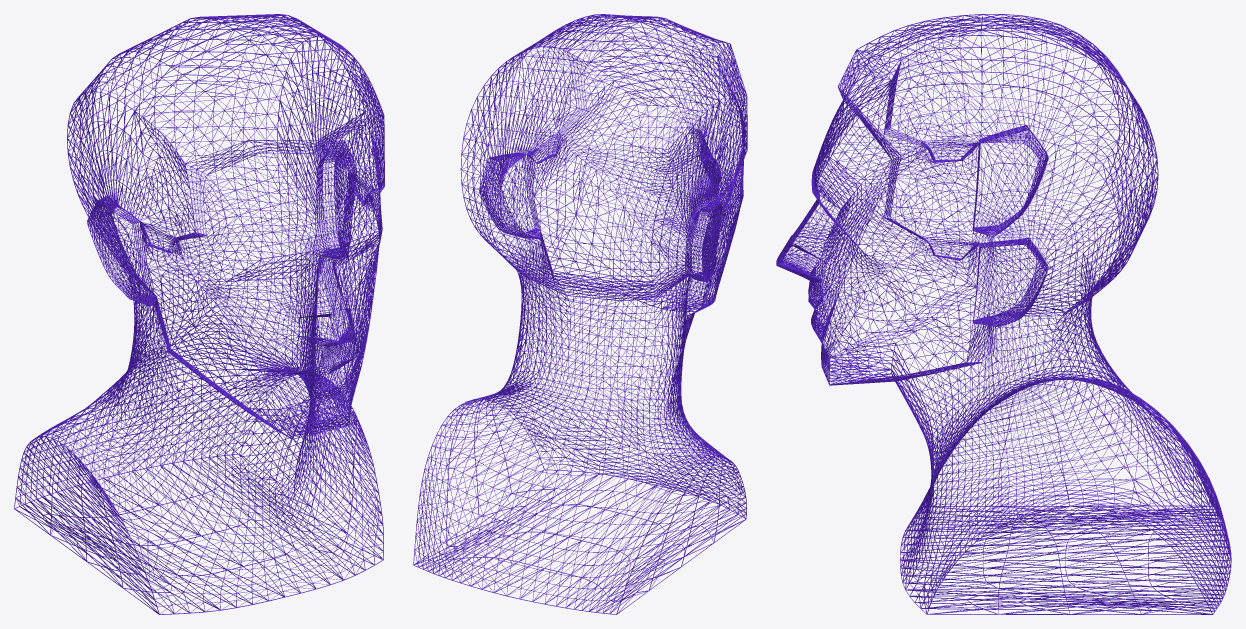
The model's file is head2.glb.
3 renders of one model, left to right at view 1: azimuth 30°, elevation 25°; view 2: azimuth 150°, elevation 25°; view 3: azimuth 270°, elevation 25°, orthographic. The views are drawn at different scales.
Parts seen in each view (by area): view 1: Secondary_Planes_of_the_Head; view 2: Secondary_Planes_of_the_Head; view 3: Secondary_Planes_of_the_Head.
Part boxes in pixels (box(x1,y1,x2,y2)): Secondary_Planes_of_the_Head: box(14, 14, 384, 614); Secondary_Planes_of_the_Head: box(413, 14, 747, 614); Secondary_Planes_of_the_Head: box(776, 14, 1231, 614).
Size of the model in its own units: 0.1933 by 0.3687 by 0.2894.
